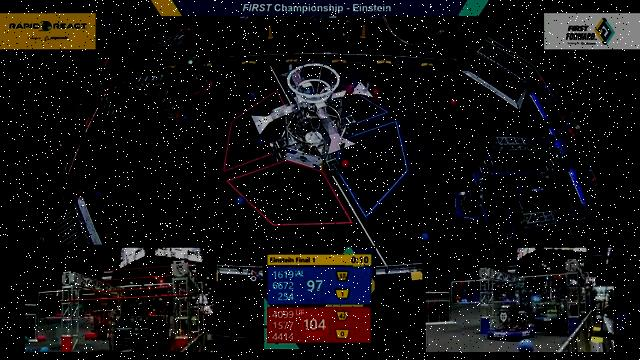Robot: (502, 191, 543, 237), (512, 161, 555, 201), (179, 56, 218, 99), (141, 82, 179, 119), (135, 59, 177, 91), (450, 183, 485, 221)
